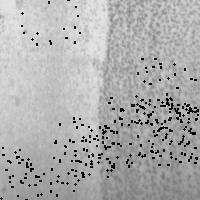pitted_surface: (95, 1, 200, 199), (136, 97, 195, 155), (102, 97, 161, 155), (72, 117, 131, 175), (135, 58, 194, 116), (143, 104, 200, 164), (53, 123, 113, 180), (21, 0, 80, 43), (26, 160, 85, 200), (171, 102, 200, 162), (0, 147, 31, 200)
